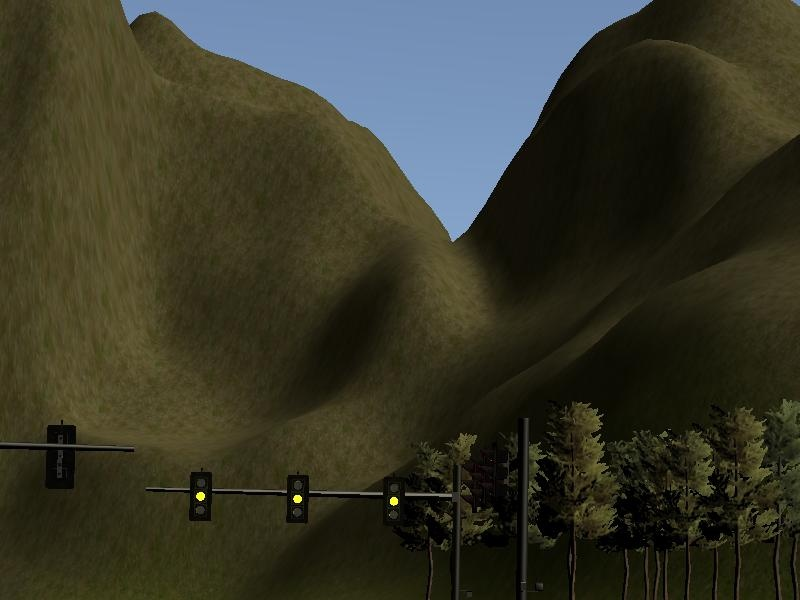yellow: (287, 474, 309, 524), (191, 472, 212, 522), (383, 476, 404, 526)
